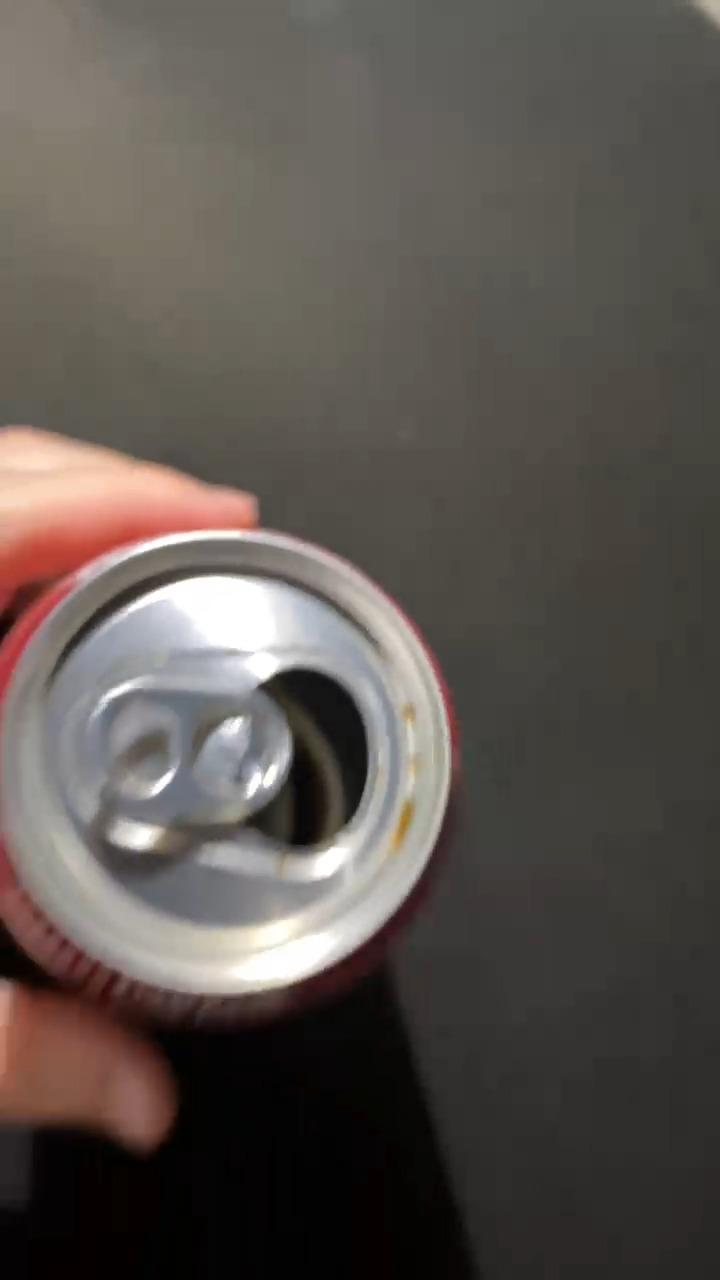coke: (0, 533, 459, 1022)
